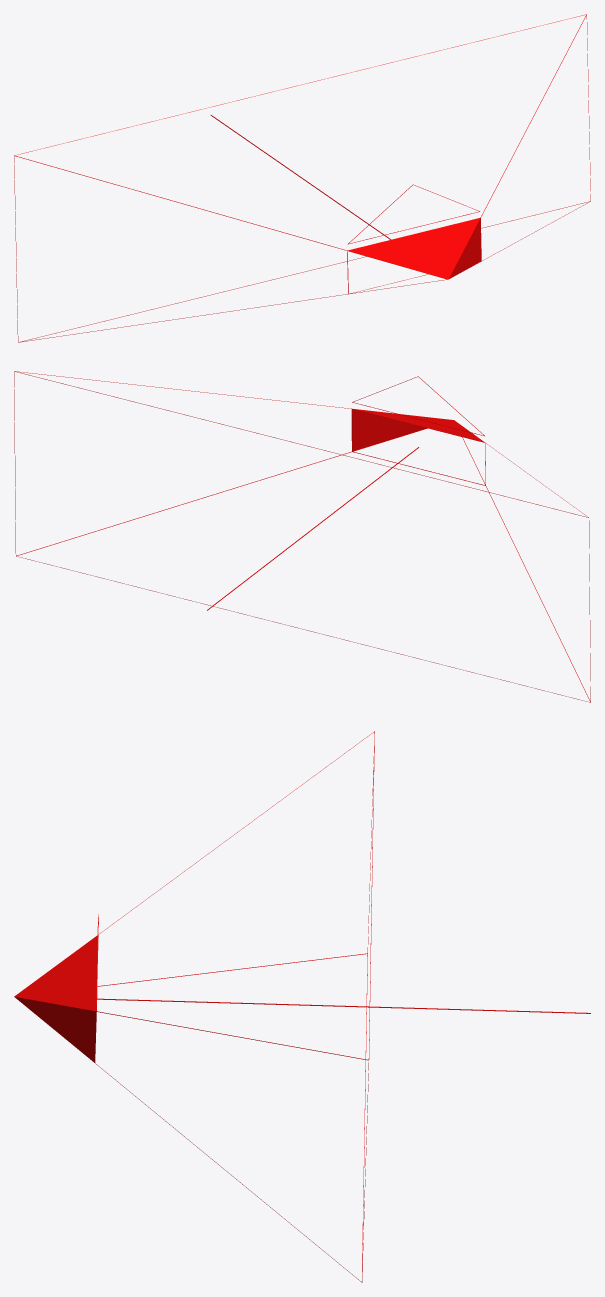
Rendered from câmera2a.fbx.
3 renders of one model, top to bottom at view 1: azimuth 30°, elevation 25°; view 2: azimuth 150°, elevation 25°; view 3: azimuth 270°, elevation 25°, orthographic. The views are drawn at different scales.
Visible parts, largest first — view 1: node_id8 (×2); view 2: node_id8 (×2); view 3: node_id8 (×3).
Part boxes in pixels (box(x1,y1,x2,y2)): node_id8 (×2): box(14, 14, 590, 342); node_id8 (×2): box(14, 371, 590, 702); node_id8 (×3): box(14, 731, 590, 1282).
Bounding box in the file's own units: 0.5804 × 0.1834 × 0.4234.
Materials: 4 (4 with a texture image).
